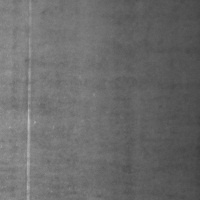scratches: (22, 14, 35, 199)
